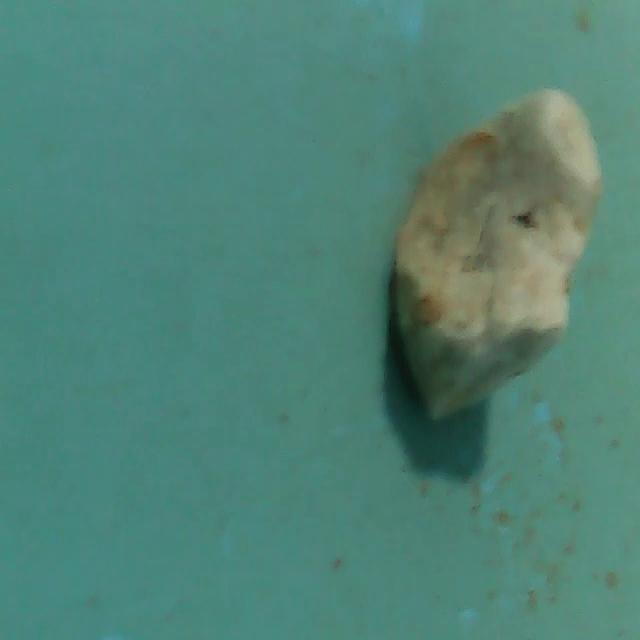rock: (387, 88, 603, 428)
